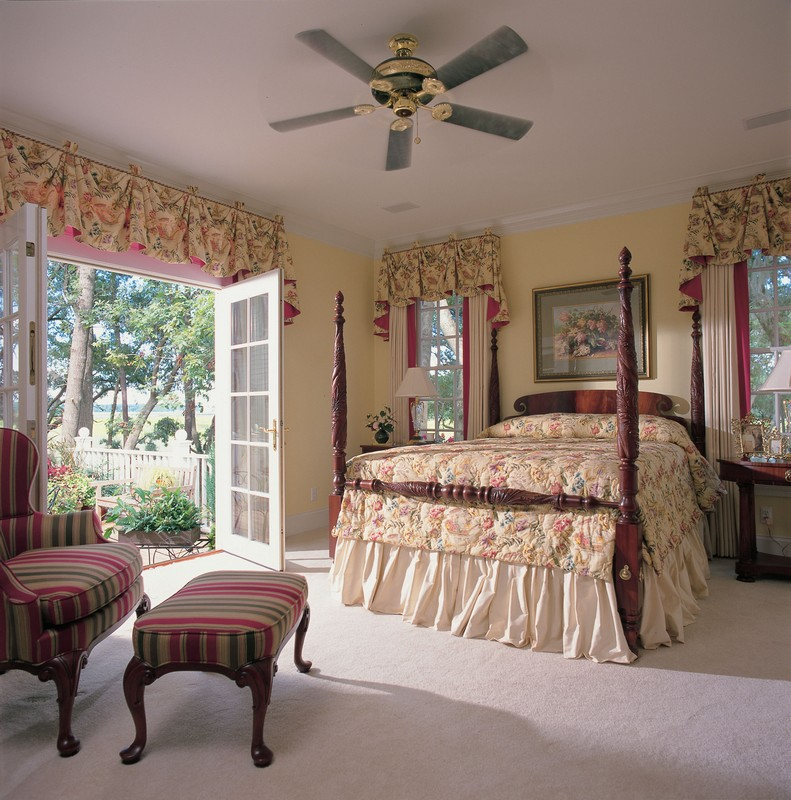bed: (330, 283, 711, 665)
door: (203, 263, 296, 569)
lamp: (391, 357, 441, 450), (758, 340, 791, 472)
sofa: (4, 426, 153, 772)
stool: (119, 559, 320, 790)
